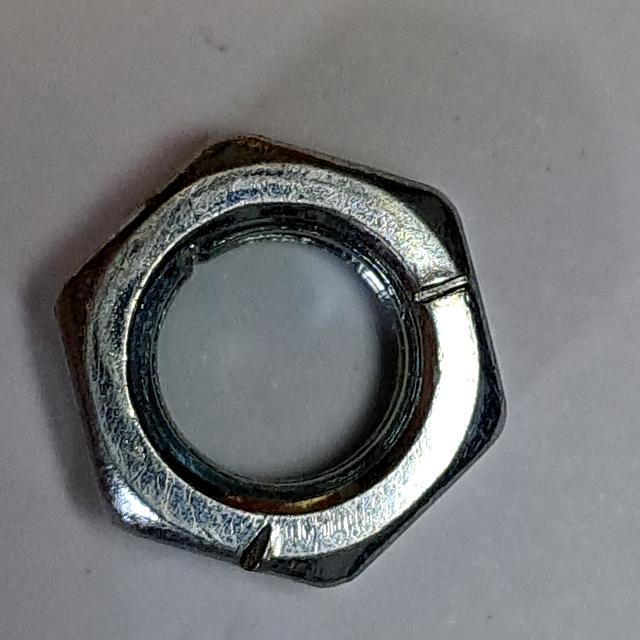Scratches: (36, 122, 524, 608)
